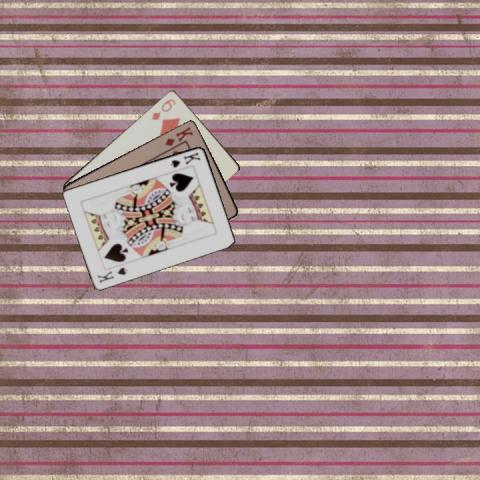6d: (148, 96, 176, 122)
Kd: (161, 123, 195, 148)
Ks: (168, 148, 202, 168), (95, 264, 128, 284)
